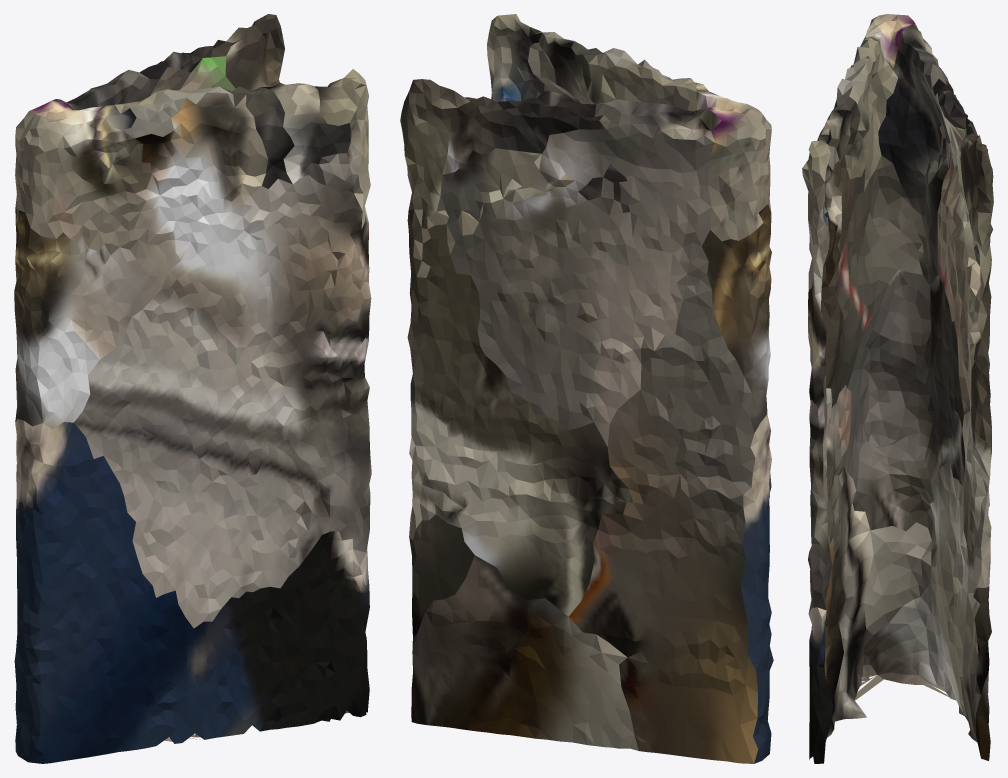
The model's file is God of War.fbx.
The picture shows the model from 3 angles, left to right: view 1: azimuth 30°, elevation 25°; view 2: azimuth 150°, elevation 25°; view 3: azimuth 270°, elevation 25°; orthographic projection. The views are drawn at different scales.
Parts seen in each view (by area): view 1: textured_output; view 2: textured_output; view 3: textured_output.
Boxes of the visible parts, left/top/right/bottom form: textured_output: left=14, top=14, right=371, bottom=763; textured_output: left=400, top=14, right=773, bottom=763; textured_output: left=802, top=14, right=993, bottom=763.
Bounding box in the file's own units: 10.13 × 19.89 × 5.57.
